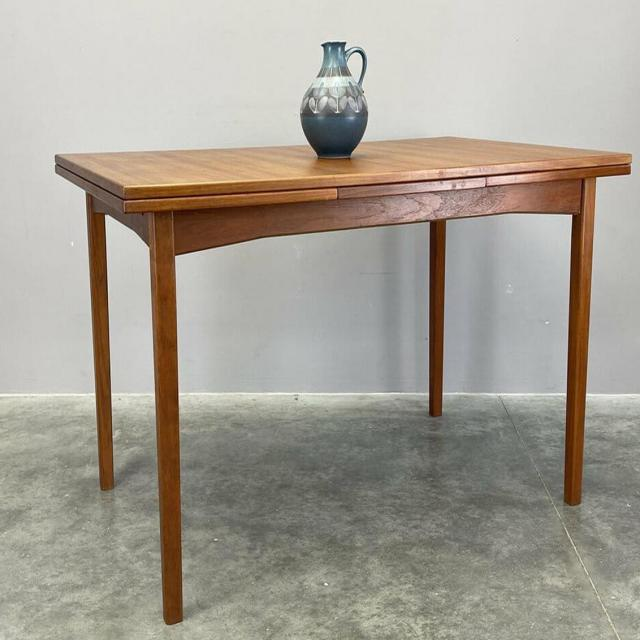Table: (37, 105, 638, 640)
